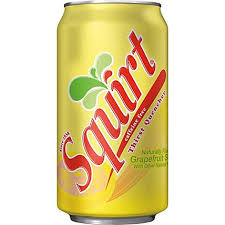can: (56, 1, 169, 225)
